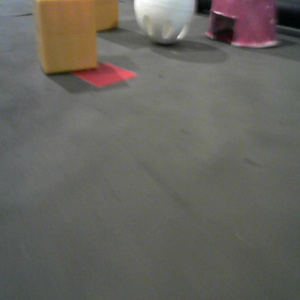right: (205, 1, 281, 49)
